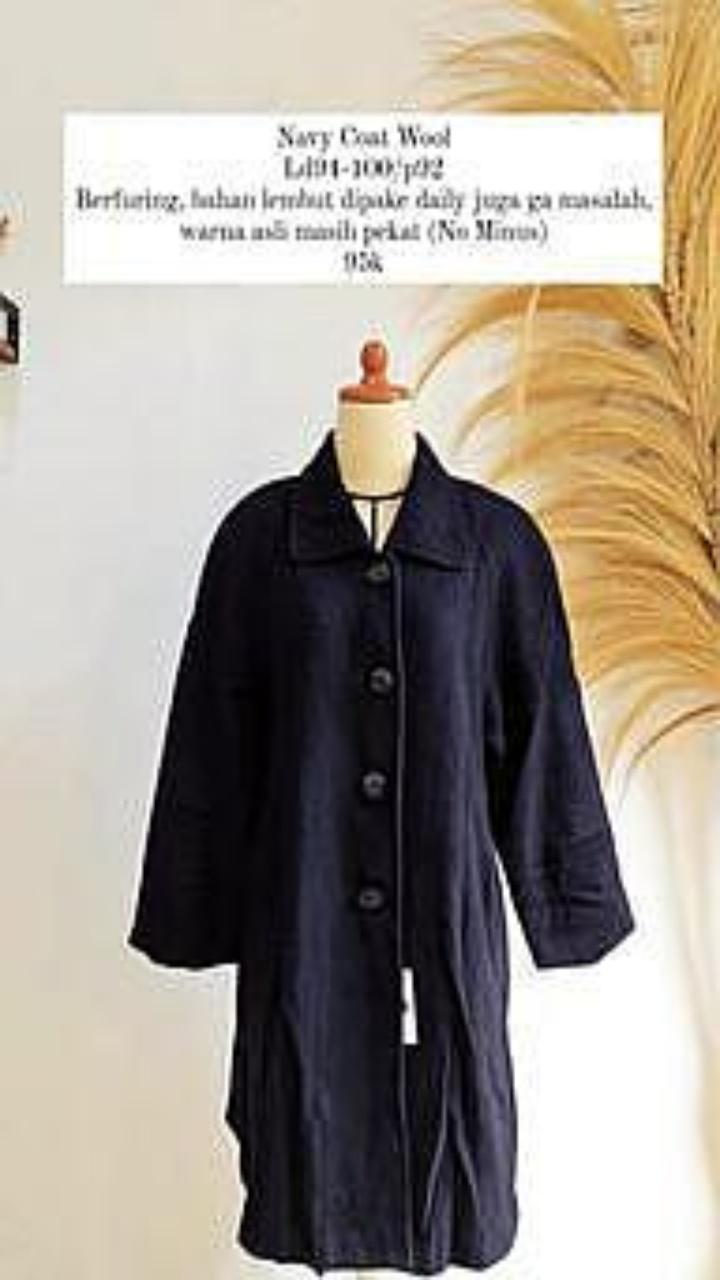Coat: (128, 428, 634, 1273)
